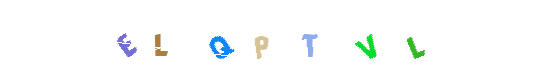E: (86, 0, 166, 80)
L: (119, 0, 199, 80), (347, 0, 427, 80)
P: (237, 0, 317, 80)
Q: (180, 0, 260, 80)
T: (239, 0, 319, 80)
V: (241, 0, 321, 80)
